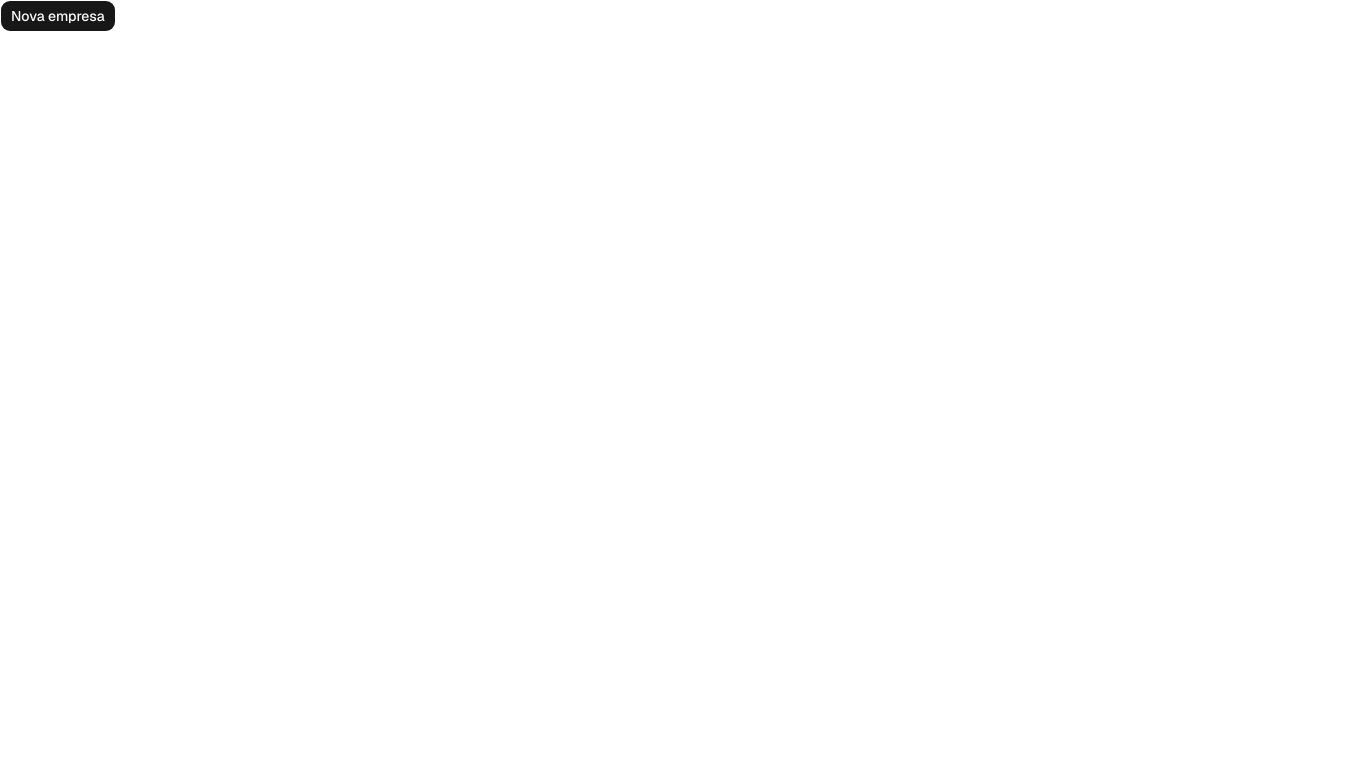
Test: CreateCompanyDialog › shows the field error Já existe uma empresa com este CNPJ. and stays open
Step 1. Click the button "Nova empresa" → (58, 16), box [0, 0, 116, 32]
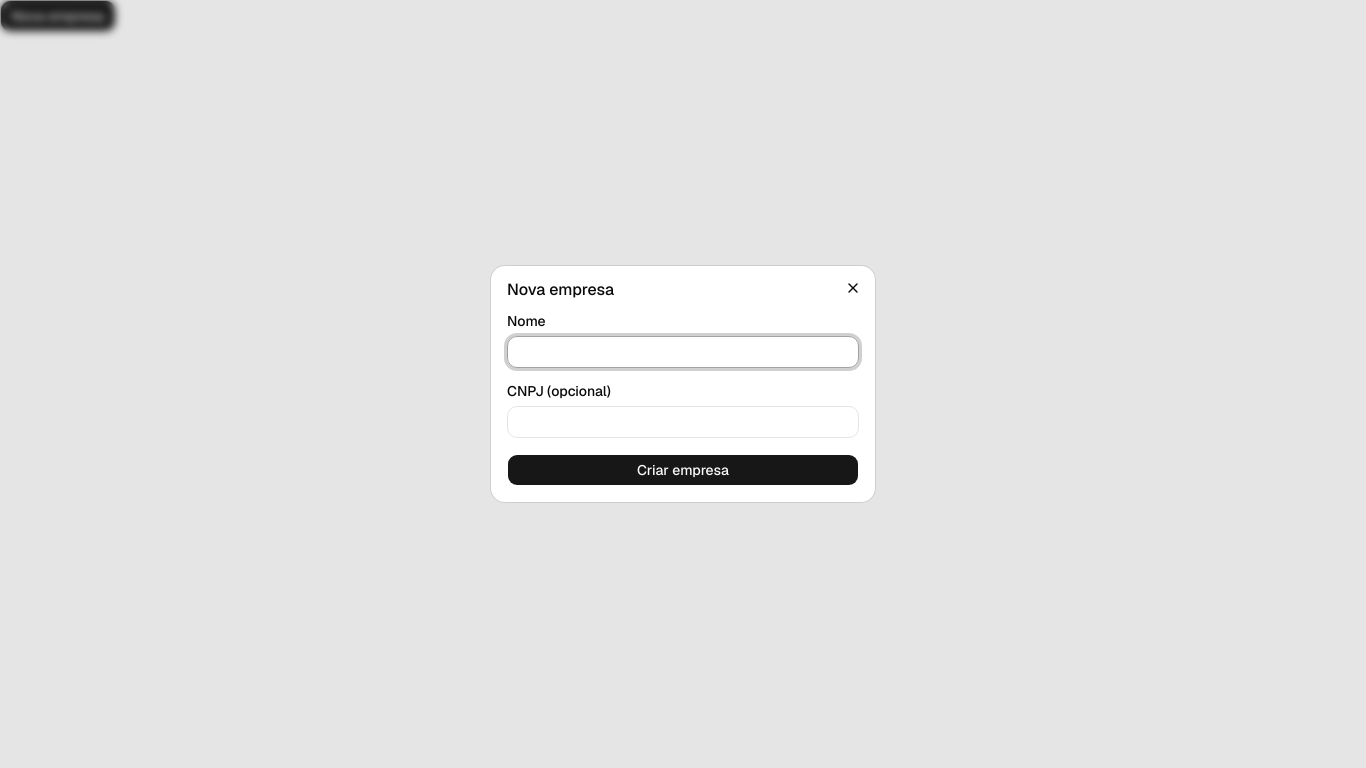
Step 2. Type "Acme" into the field labelled "Nome" → (683, 352), box [507, 336, 859, 368]
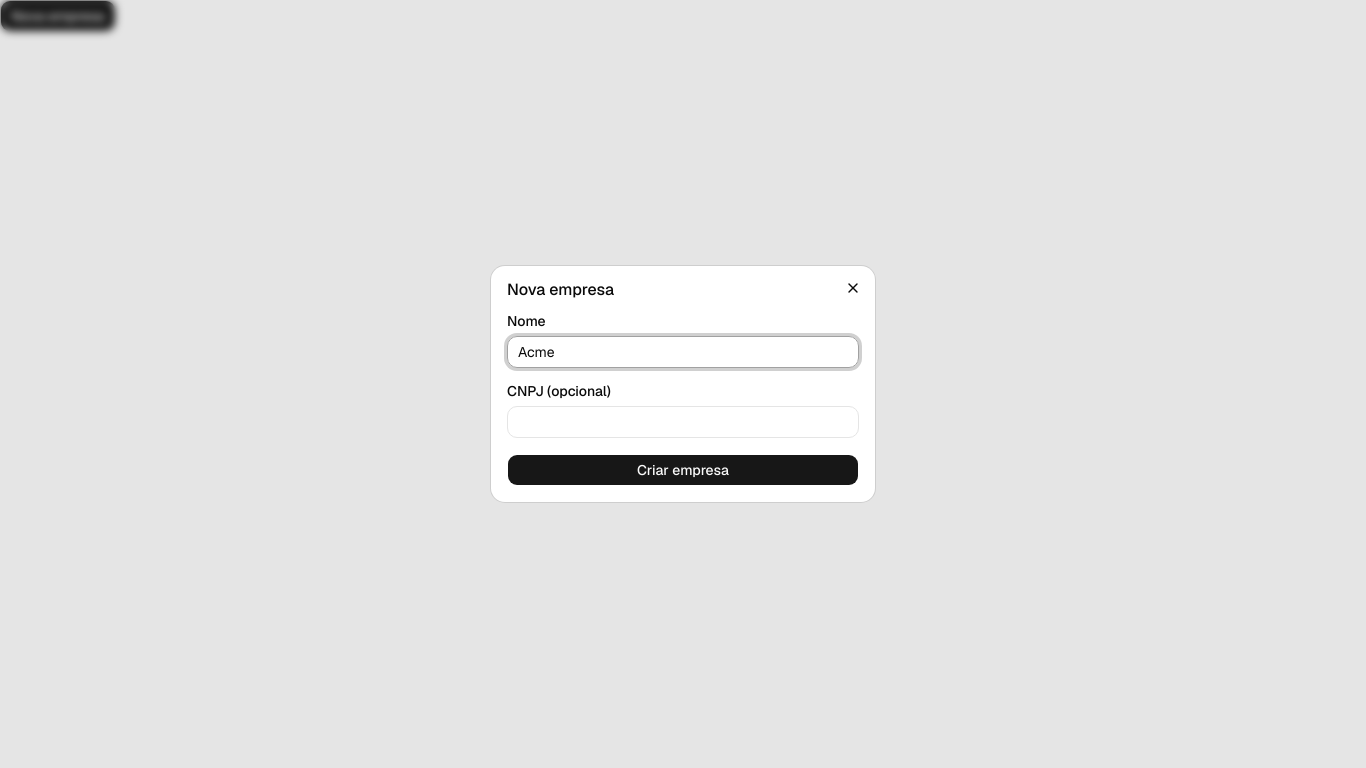
Step 3. Click the button "Criar empresa" → (683, 470), box [507, 454, 859, 486]
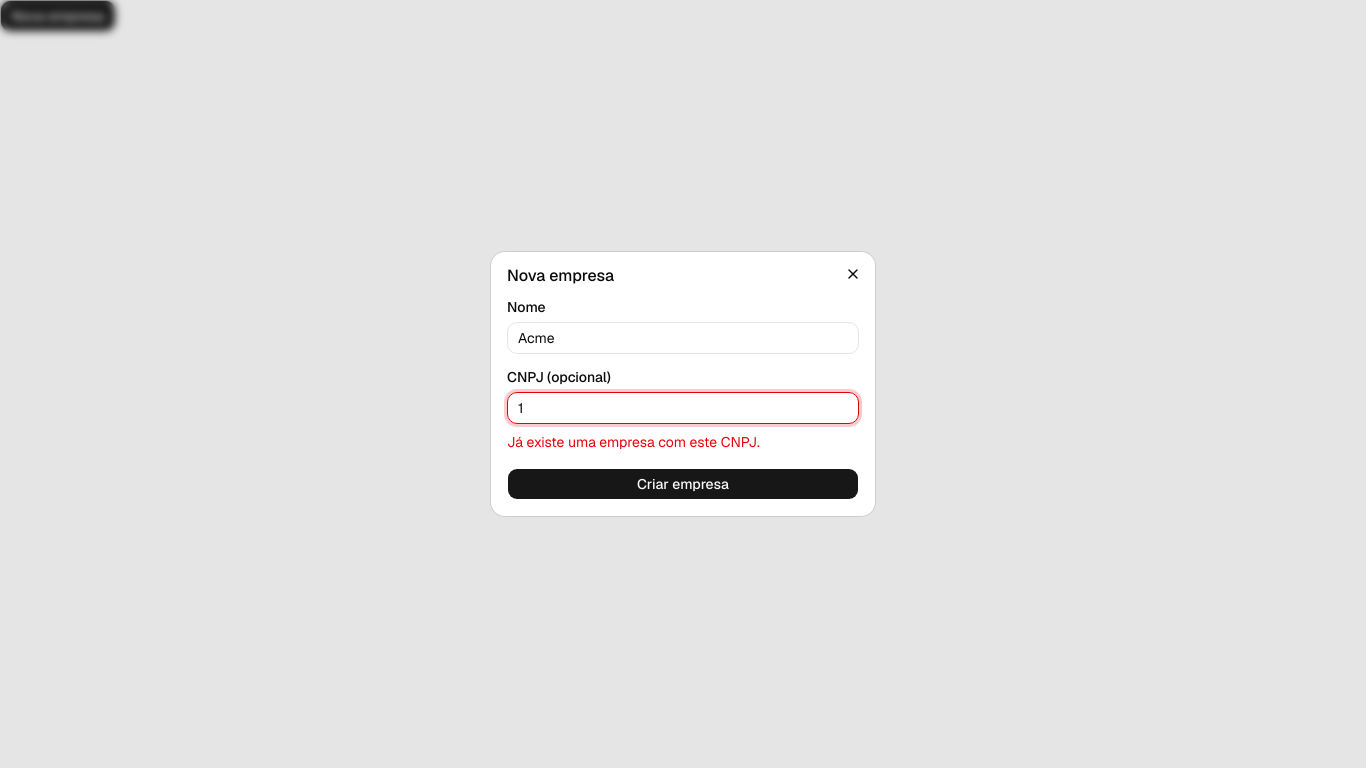
Result: the dialog is shown at [491, 252, 875, 516]
Result: the text "Já existe uma empresa com este CNPJ." is shown at [507, 433, 760, 451]
